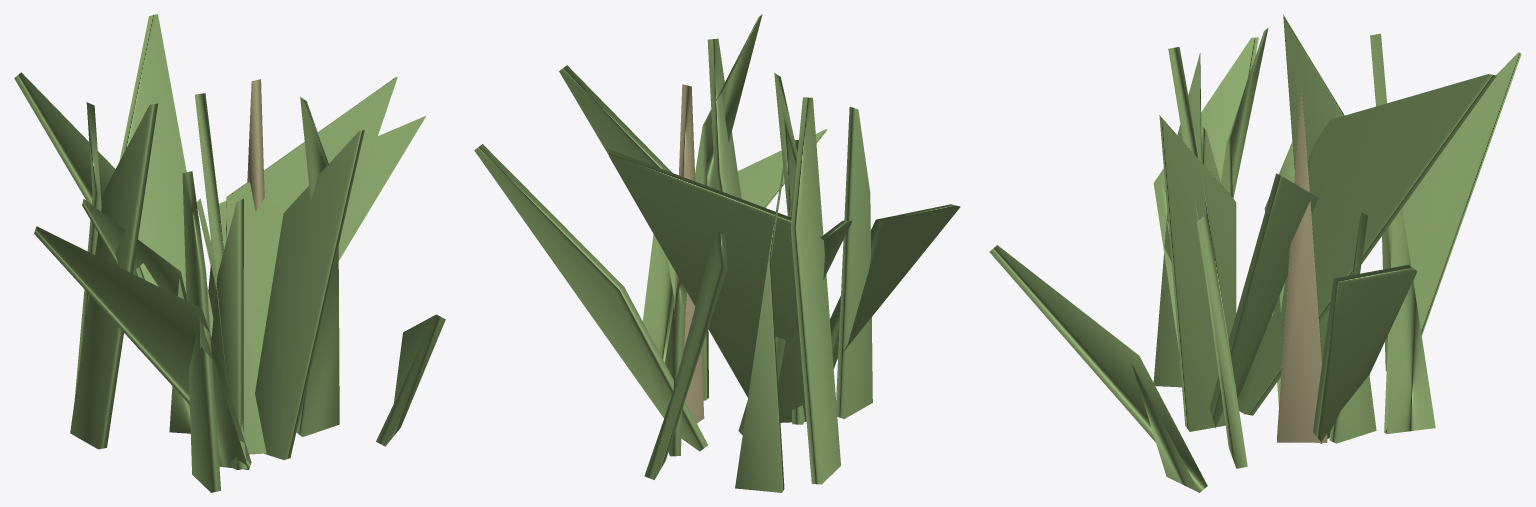
The model's file is grass_clump.glb.
3 views of the same model, side by side, from view 1: azimuth 30°, elevation 25°; view 2: azimuth 150°, elevation 25°; view 3: azimuth 270°, elevation 25° (orthographic). The views are drawn at different scales.
Parts seen in each view (by area): view 1: grass_clump; view 2: grass_clump; view 3: grass_clump.
Boxes of the visible parts, bbox=[...] form: grass_clump: bbox=[14, 14, 445, 492]; grass_clump: bbox=[474, 14, 960, 492]; grass_clump: bbox=[989, 14, 1521, 492].
Size of the model in its own units: 0.7417 by 0.5942 by 0.7368.
